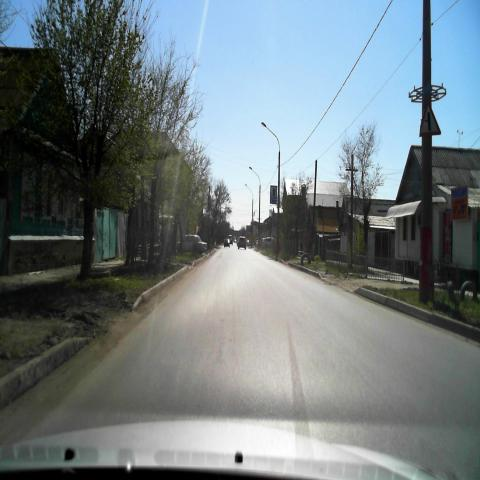2_3_3: (417, 106, 442, 139)
